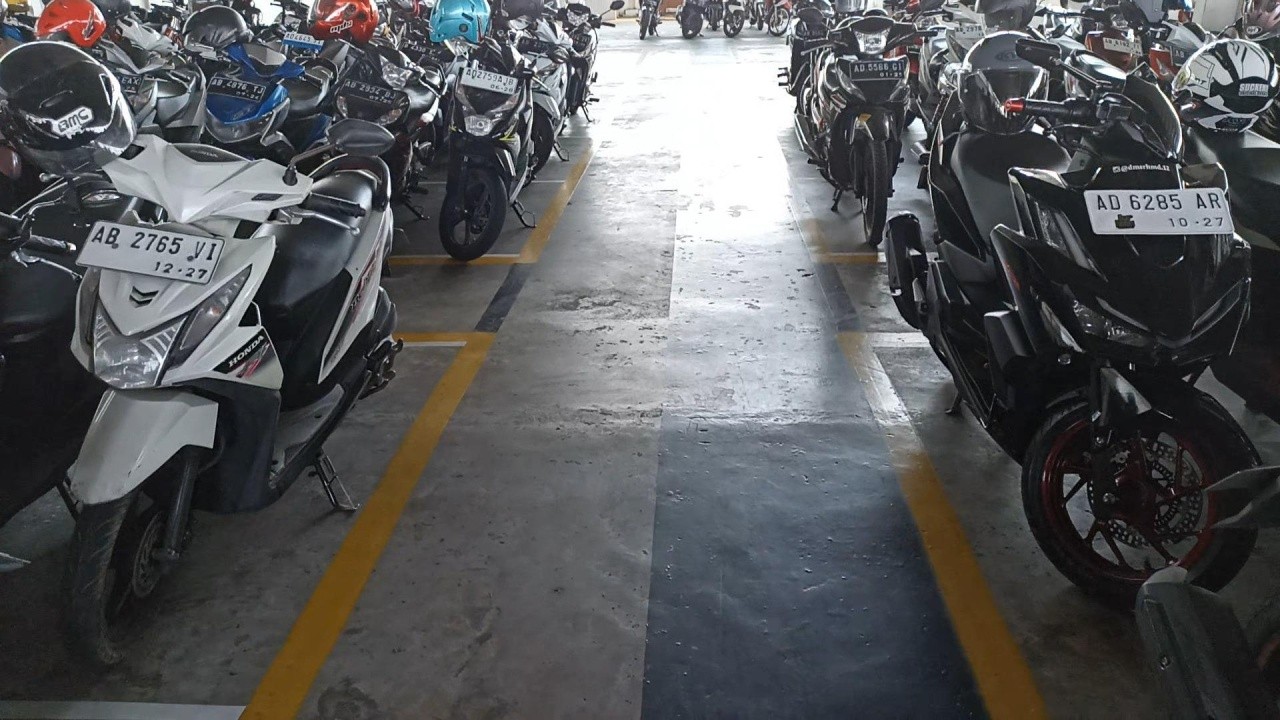plate: (76, 220, 226, 286), (1083, 187, 1235, 235), (340, 78, 399, 107), (460, 67, 518, 96), (206, 77, 266, 102), (850, 60, 906, 81)
